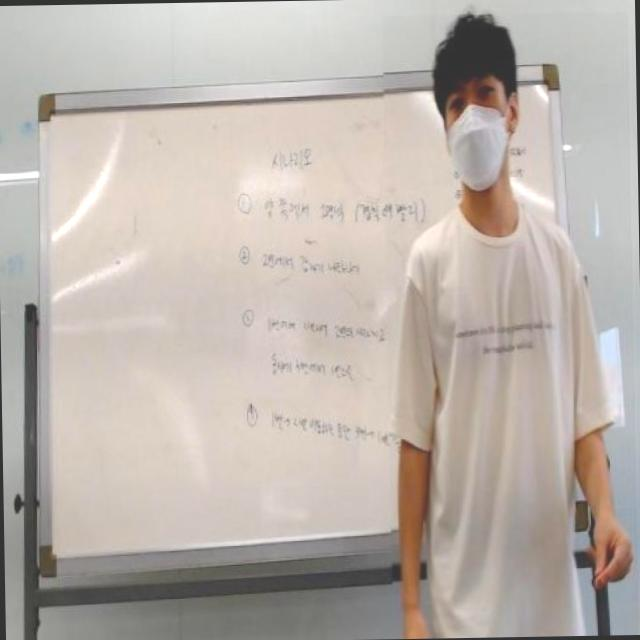Instructor: (405, 26, 604, 620)
White-board: (42, 72, 579, 565)
